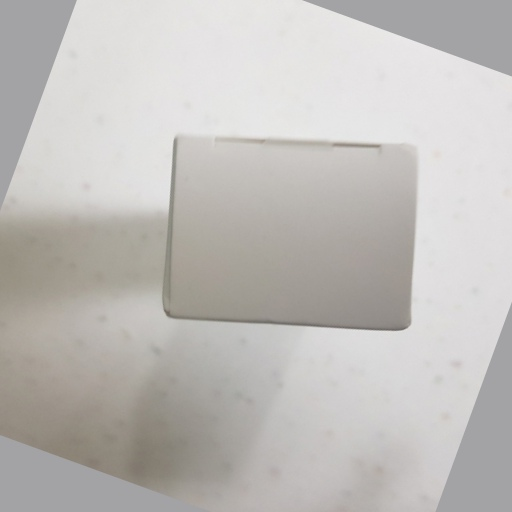Paper_0: (153, 127, 433, 337)
